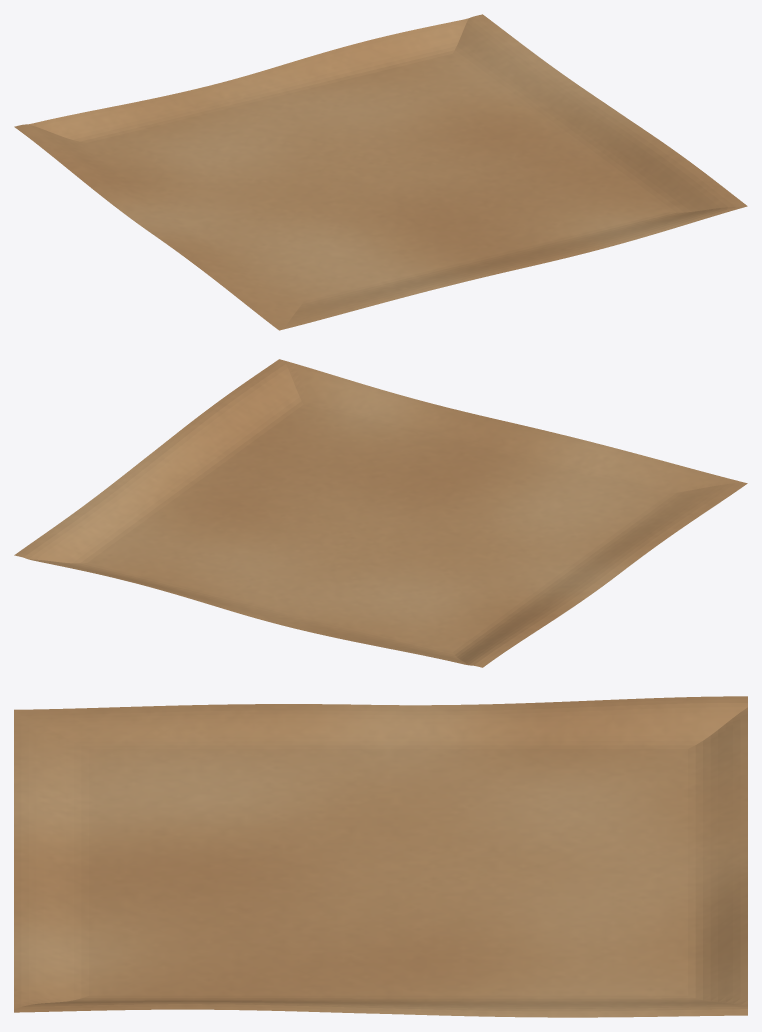
File: terrain.glb
3 renders of one model, top to bottom at view 1: azimuth 30°, elevation 25°; view 2: azimuth 150°, elevation 25°; view 3: azimuth 270°, elevation 25°, orthographic. The views are drawn at different scales.
Parts seen in each view (by area): view 1: Terrain; view 2: Terrain; view 3: Terrain.
Boxes of the visible parts, x1,y1,x2,y2 form: Terrain: (14, 14, 747, 330); Terrain: (14, 359, 747, 667); Terrain: (14, 696, 747, 1017).
Size of the model in its own units: 200 by 6.17 by 196.
